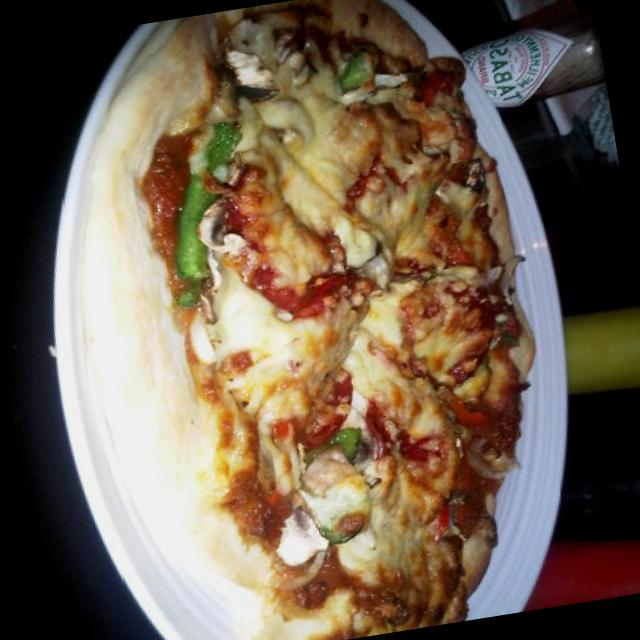Bell Pepper: (151, 163, 232, 305), (317, 34, 401, 99)
basil: (178, 118, 266, 195)
mushrooms: (412, 469, 489, 547), (202, 35, 278, 112), (176, 190, 253, 262), (338, 222, 407, 294), (262, 502, 334, 568), (480, 250, 531, 306), (456, 154, 488, 193)
pizza: (80, 0, 536, 640)
